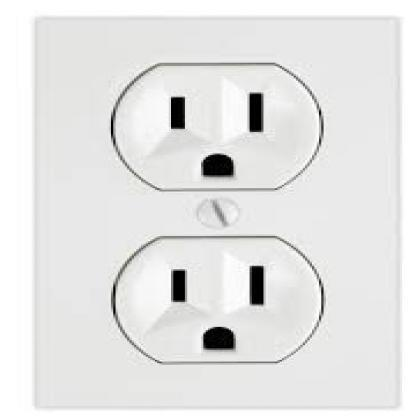OUTLET: (32, 18, 400, 411)
